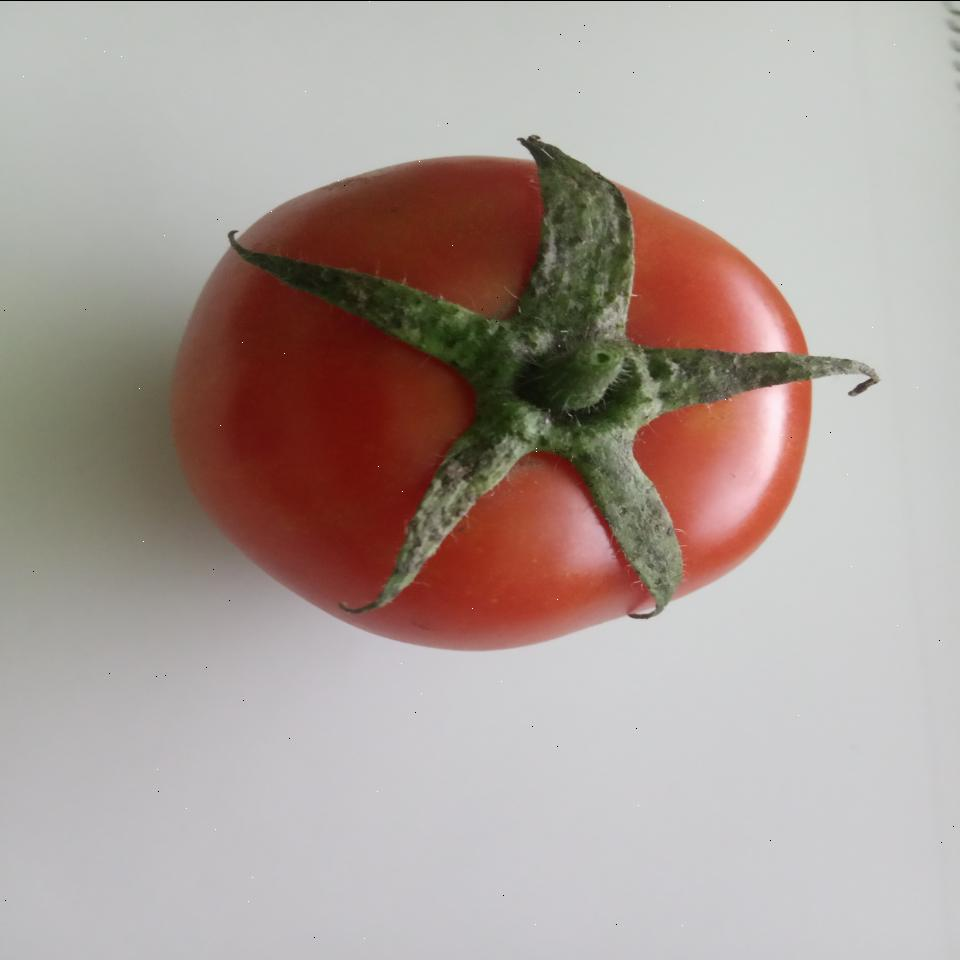Healthy: (164, 130, 882, 654)
